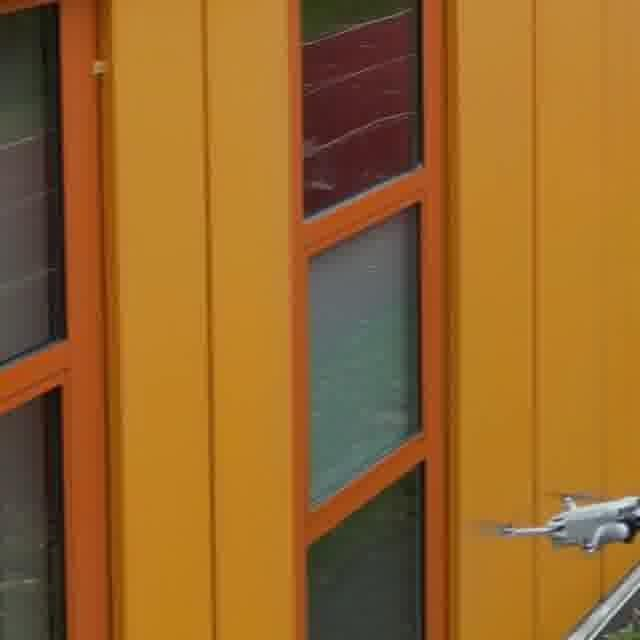Drohne: (491, 494, 639, 552)
